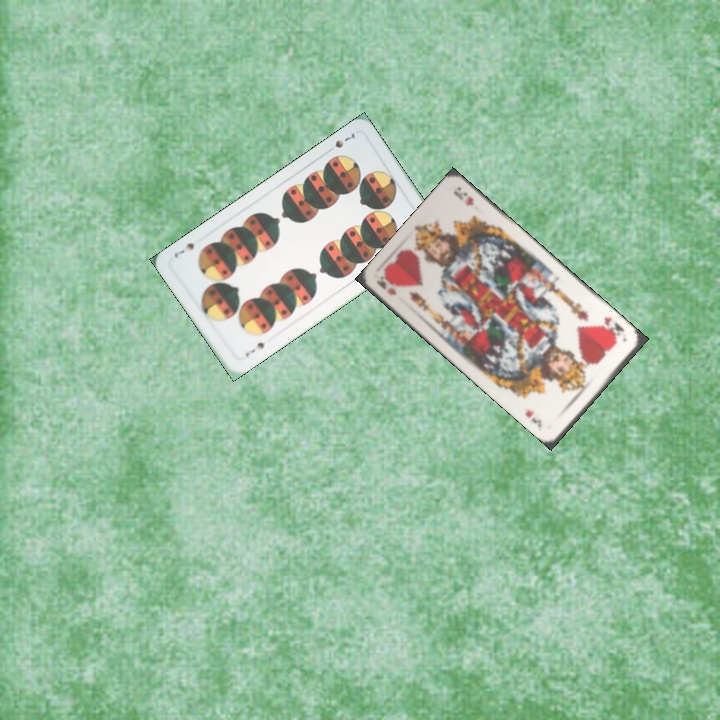HK: (598, 313, 627, 341), (373, 276, 399, 298)
S7: (323, 128, 357, 155), (241, 338, 268, 360)
